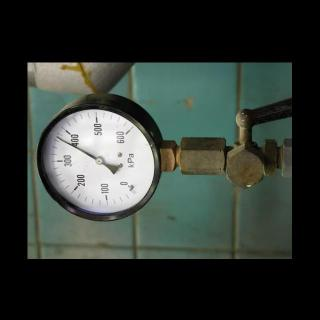gauge: (28, 95, 164, 223), (120, 178, 142, 198), (118, 122, 138, 142), (95, 157, 104, 166), (54, 135, 61, 141)
